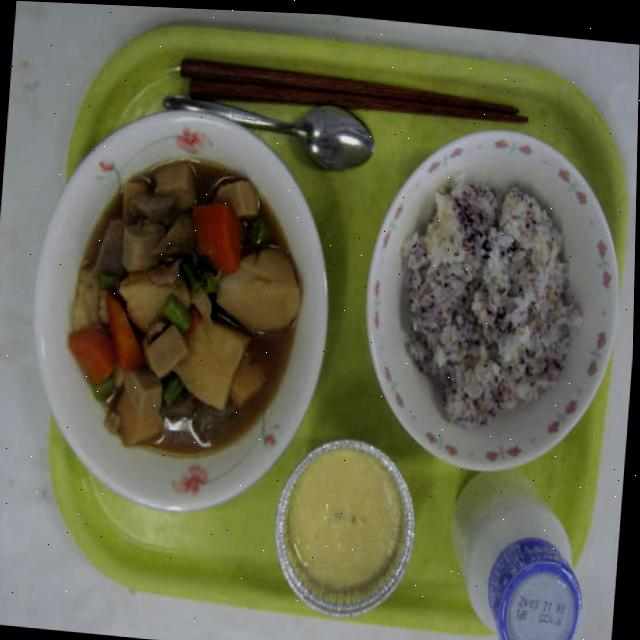鸡蛋料理: (266, 412, 431, 640)
